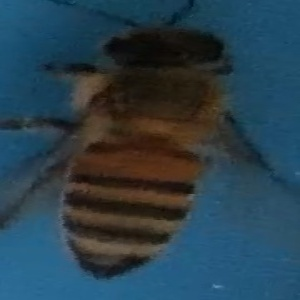bee: (8, 4, 300, 284)
